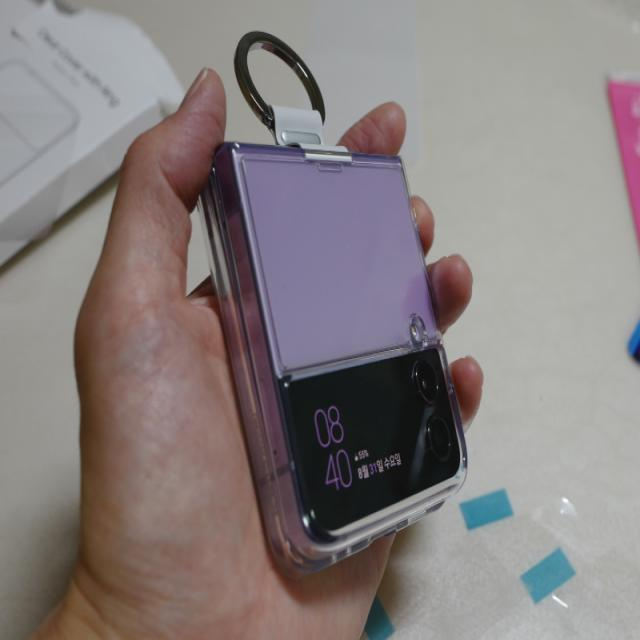Mobile: (203, 136, 477, 580)
